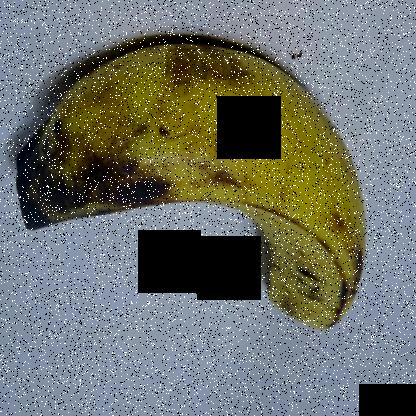ripe: (10, 11, 373, 348)
